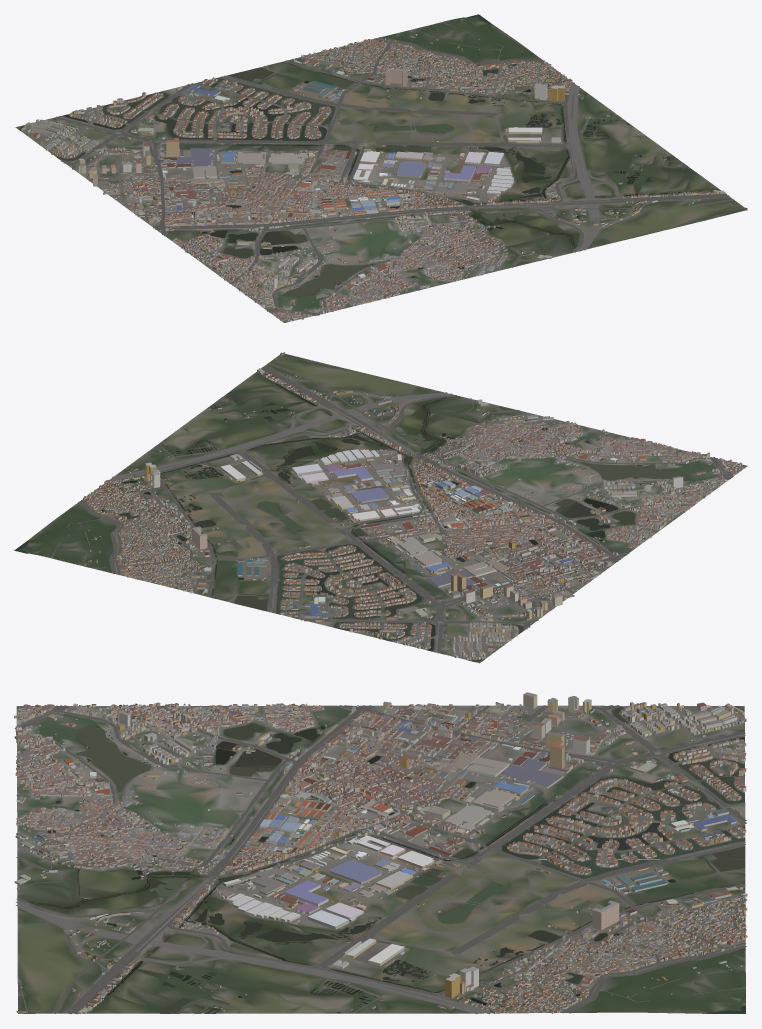
3 views of the same model, one above another, from view 1: azimuth 30°, elevation 25°; view 2: azimuth 150°, elevation 25°; view 3: azimuth 270°, elevation 25° (orthographic). The views are drawn at different scales.
Visible parts, largest first — view 1: ground, buildings, roads, water; view 2: ground, buildings, roads, water; view 3: ground, buildings, roads, water.
Boxes of the visible parts, x1,y1,x2,y2 form: ground: (15, 16, 747, 322); buildings: (21, 30, 747, 321); roads: (25, 22, 741, 319); water: (18, 14, 705, 297); ground: (14, 353, 747, 663); buildings: (68, 352, 745, 659); roads: (51, 355, 733, 658); water: (14, 363, 688, 661); ground: (16, 705, 745, 1013); buildings: (14, 692, 747, 1014); roads: (14, 705, 746, 1014); water: (18, 706, 745, 1013).
Size of the model in its own units: 2828 by 95.28 by 2827.
